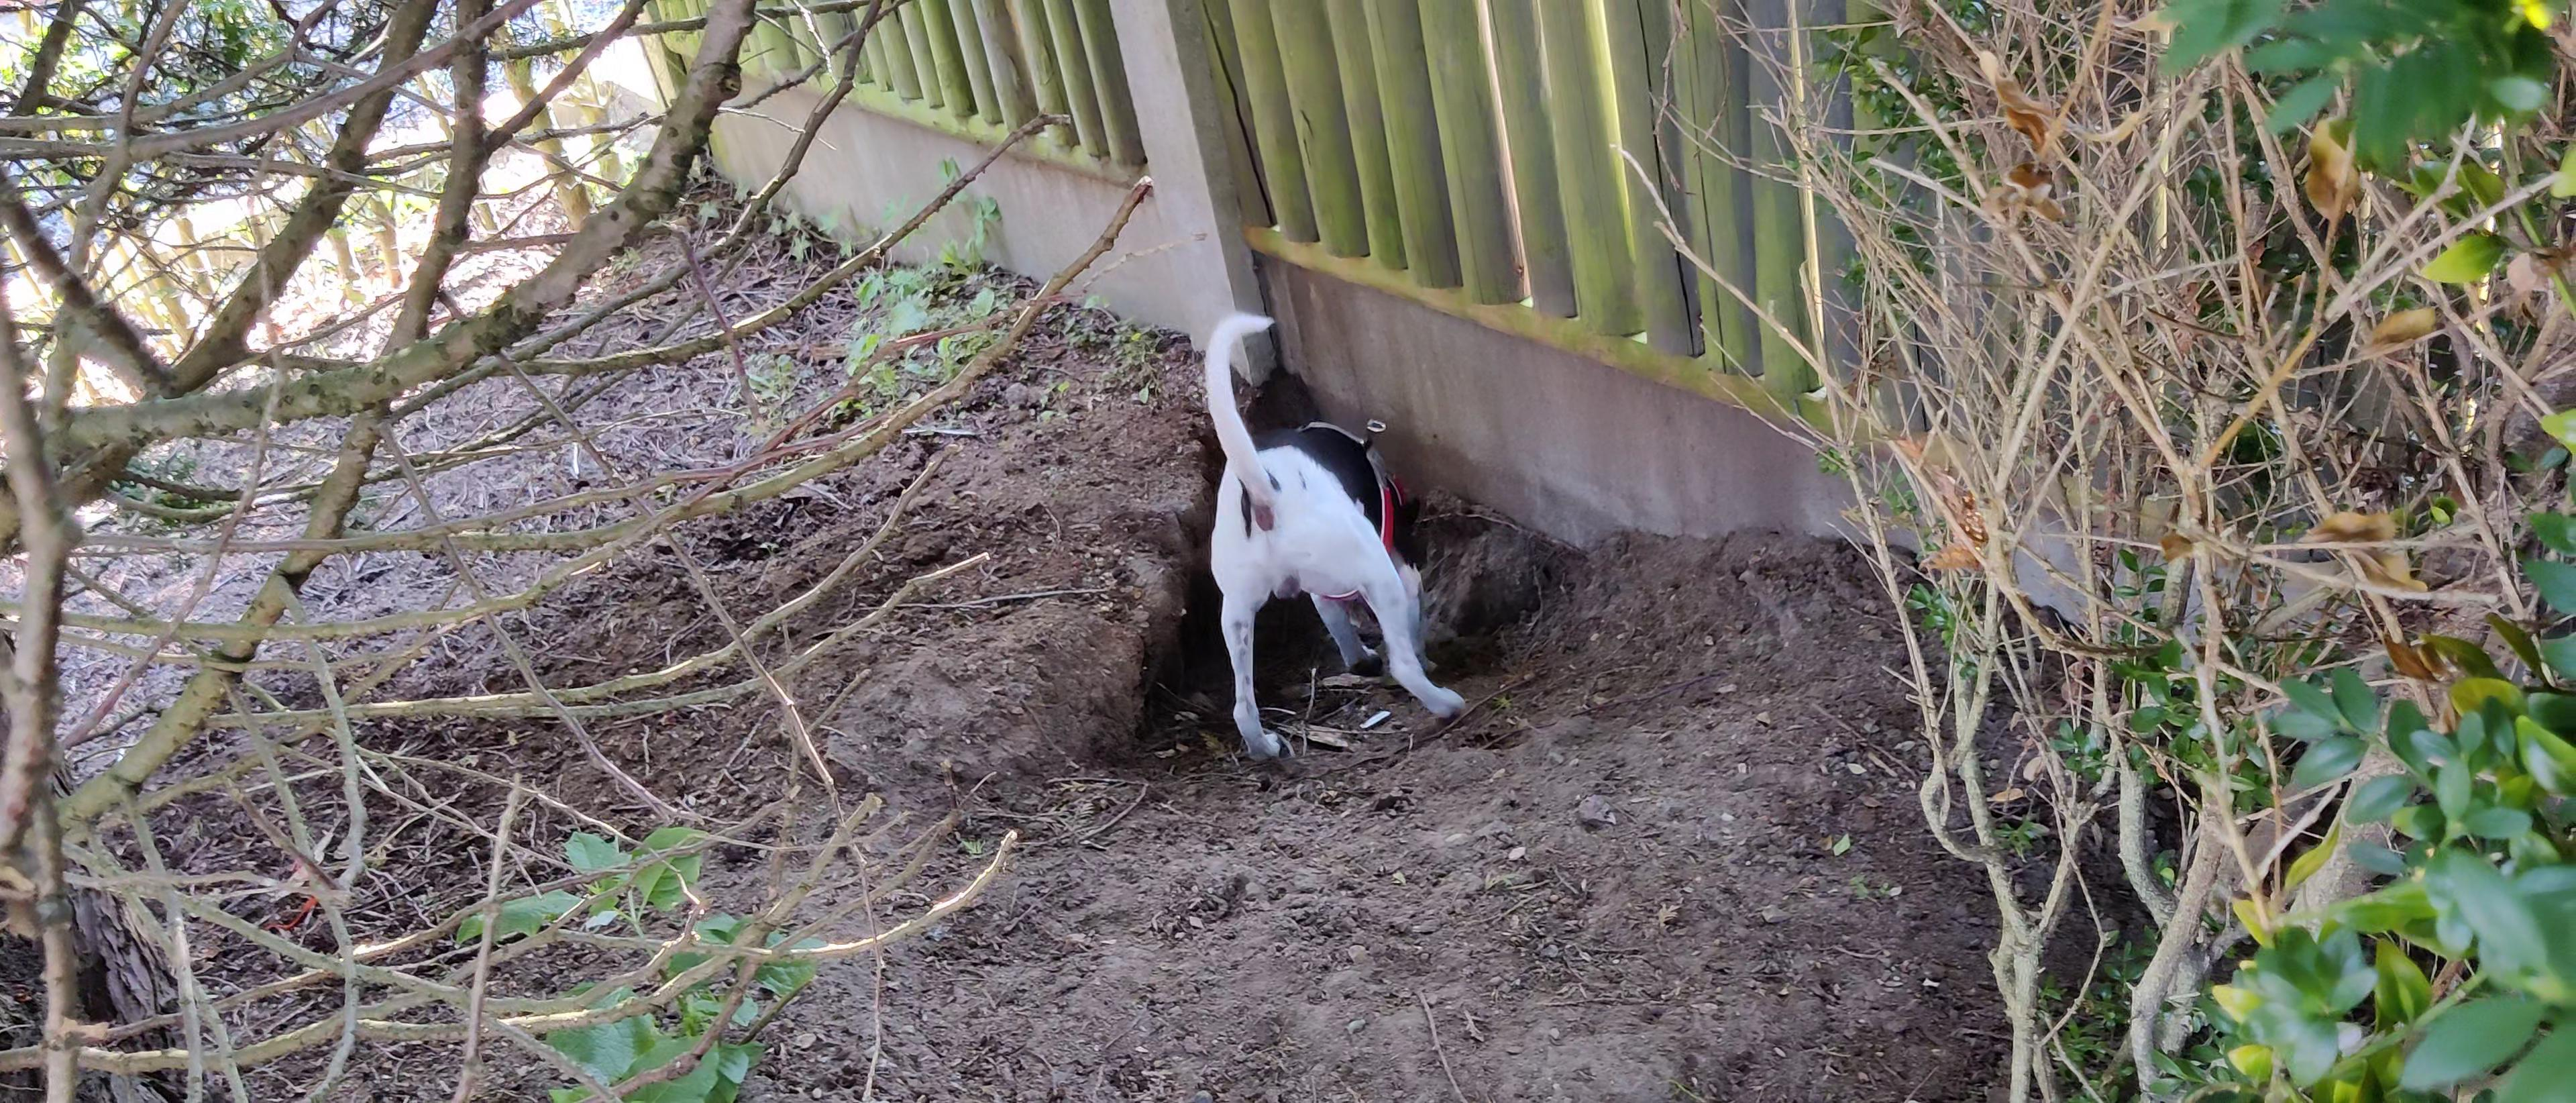Dog: (1145, 279, 1521, 786)
